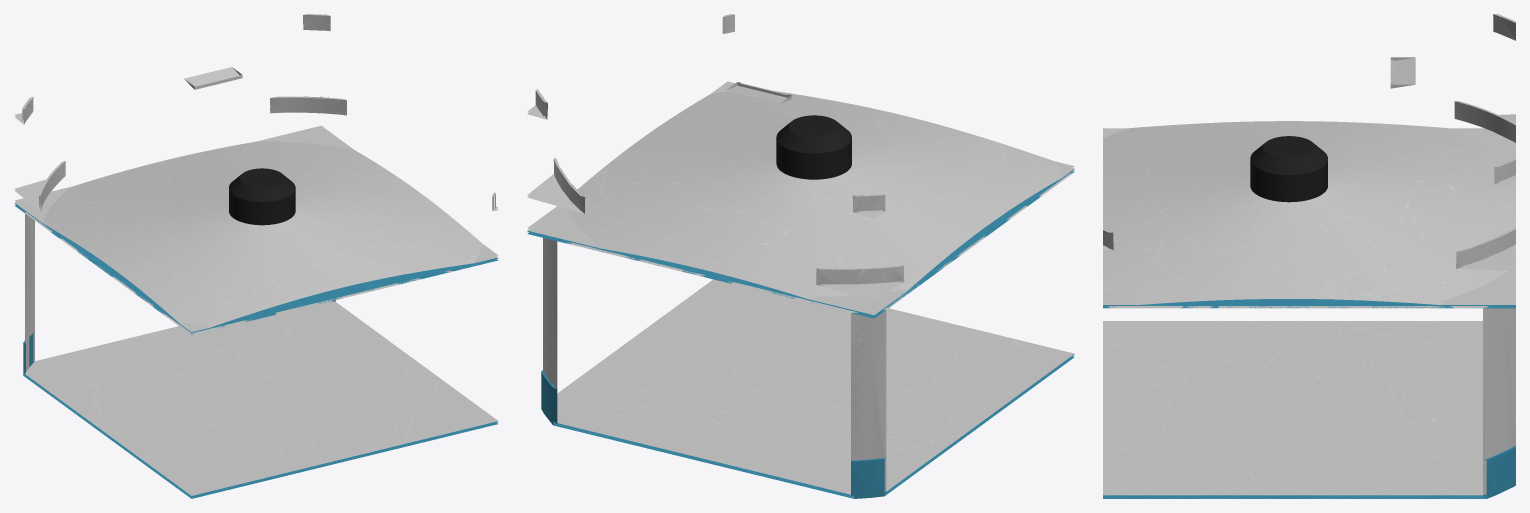
The model's file is PickingStation_Cube08.glb.
3 views of the same model, side by side, from view 1: azimuth 30°, elevation 25°; view 2: azimuth 150°, elevation 25°; view 3: azimuth 270°, elevation 25° (orthographic). The views are drawn at different scales.
Visible parts, largest first — view 1: color-13[5]; view 2: color-13[5]; view 3: color-13[5].
Boxes of the visible parts, <box> form: color-13[5]: <box>14,14,498,498</box>; color-13[5]: <box>527,14,1074,498</box>; color-13[5]: <box>1103,14,1515,498</box>.
Size of the model in its own units: 0.32 by 0.29 by 0.32.
3 materials, 3 textured.
